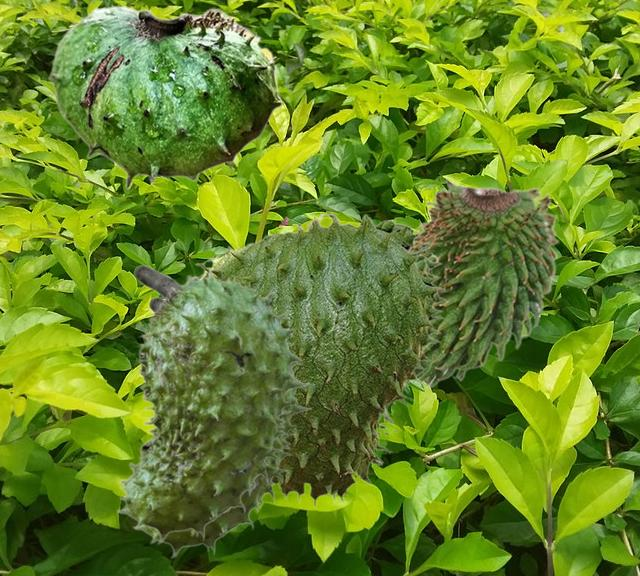guyabano: (193, 211, 448, 508), (115, 264, 308, 544), (131, 296, 312, 558), (48, 5, 282, 189), (406, 176, 559, 387)
